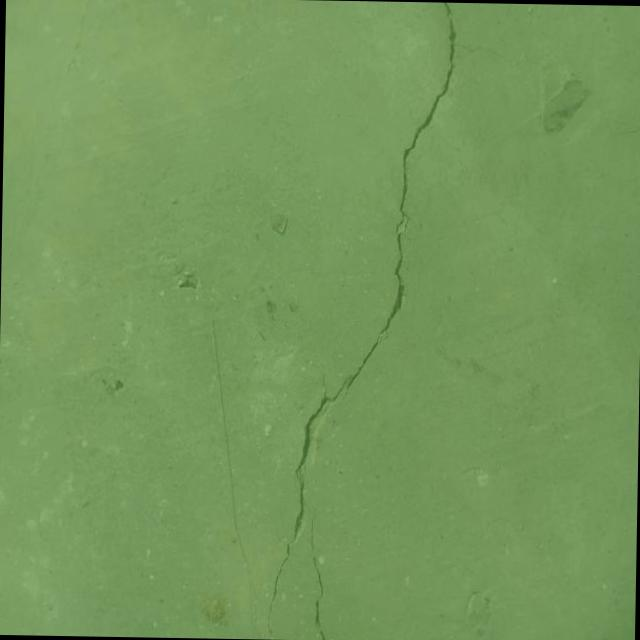crack: (266, 0, 516, 640), (308, 505, 329, 640), (609, 123, 640, 136)
